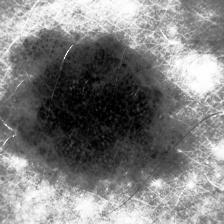Benign Marking or Mole: (0, 25, 183, 182)
